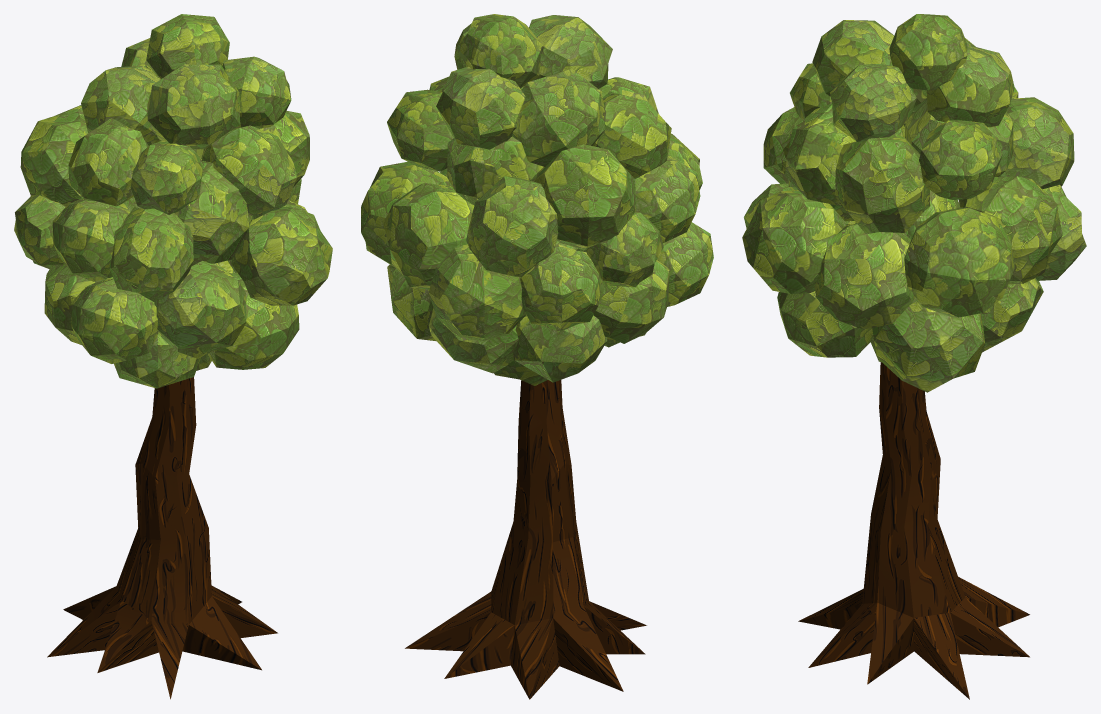
Rendered from OptimisedTree4.fbx.
3 views of the same model, side by side, from view 1: azimuth 30°, elevation 25°; view 2: azimuth 150°, elevation 25°; view 3: azimuth 270°, elevation 25° (orthographic). The views are drawn at different scales.
Visible parts, largest first — view 1: OptimisedTree4; view 2: OptimisedTree4; view 3: OptimisedTree4.
Part boxes in pixels (left/top/right/bottom): OptimisedTree4: left=14, top=14, right=332, bottom=699; OptimisedTree4: left=361, top=14, right=713, bottom=699; OptimisedTree4: left=742, top=14, right=1086, bottom=699.
Bounding box in the file's own units: 3.36 × 7.2 × 3.49.
1 material, 1 textured.
